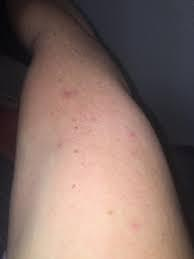Goosebumps: (7, 1, 191, 258)
